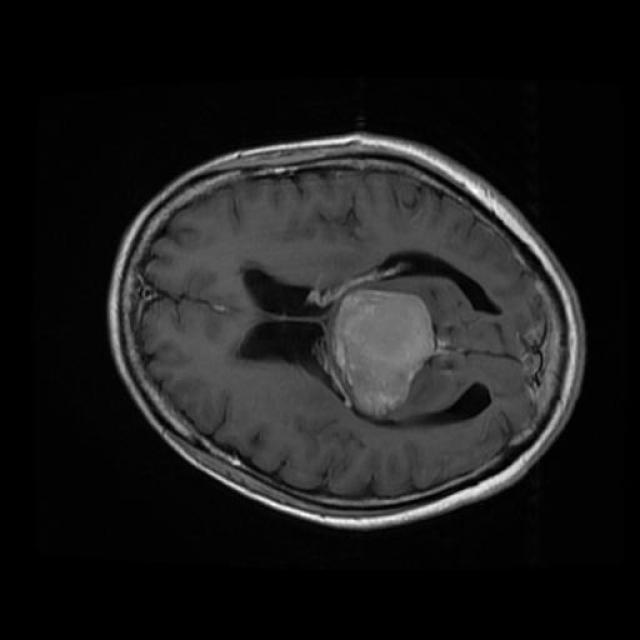Meningioma: (328, 290, 437, 419)
